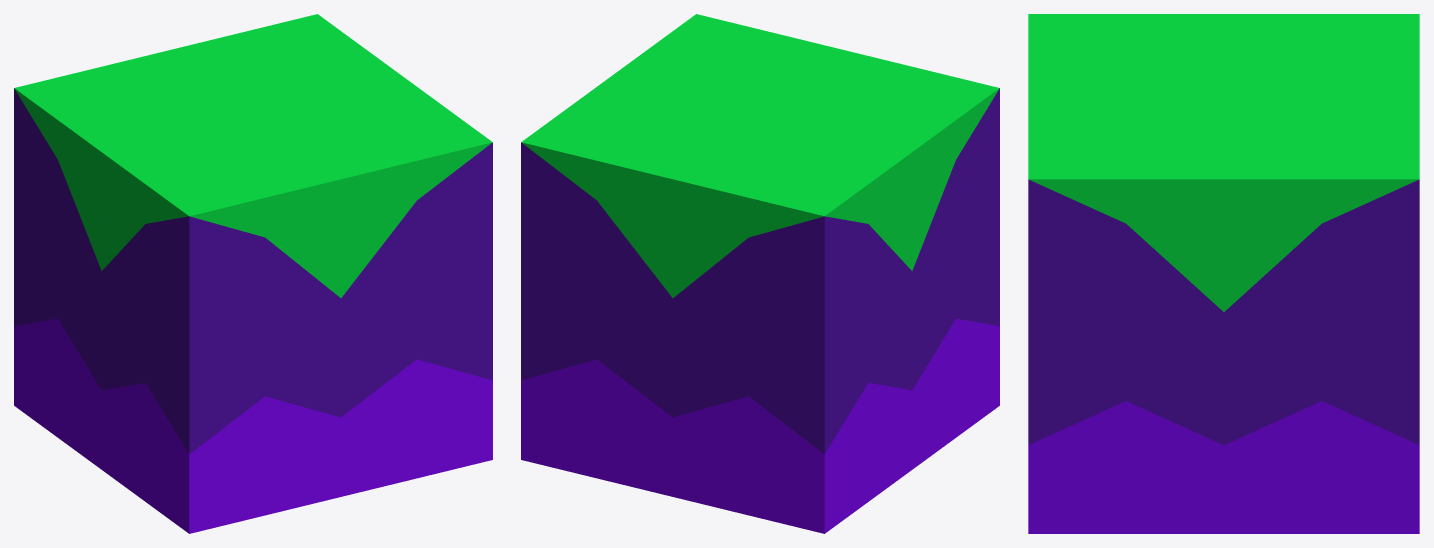
File: Level Two Green Top Block.fbx
The picture shows the model from 3 angles, left to right: view 1: azimuth 30°, elevation 25°; view 2: azimuth 150°, elevation 25°; view 3: azimuth 270°, elevation 25°; orthographic projection. The views are drawn at different scales.
Parts seen in each view (by area): view 1: Cube; view 2: Cube; view 3: Cube.
Boxes of the visible parts, <box> form: Cube: <box>14,14,492,533</box>; Cube: <box>521,14,999,533</box>; Cube: <box>1028,14,1419,533</box>.
Size of the model in its own units: 200 by 200 by 200.
